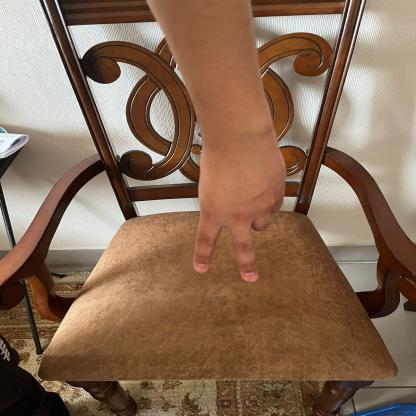N: (192, 121, 291, 285)
